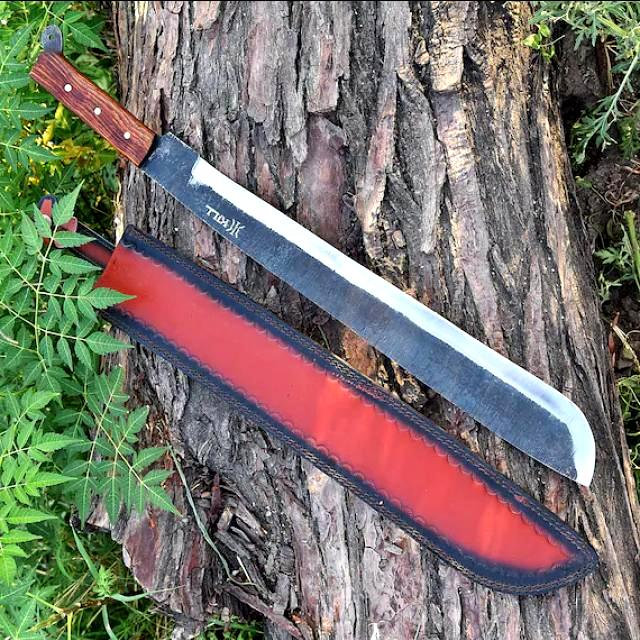long knife: (21, 38, 616, 490)
